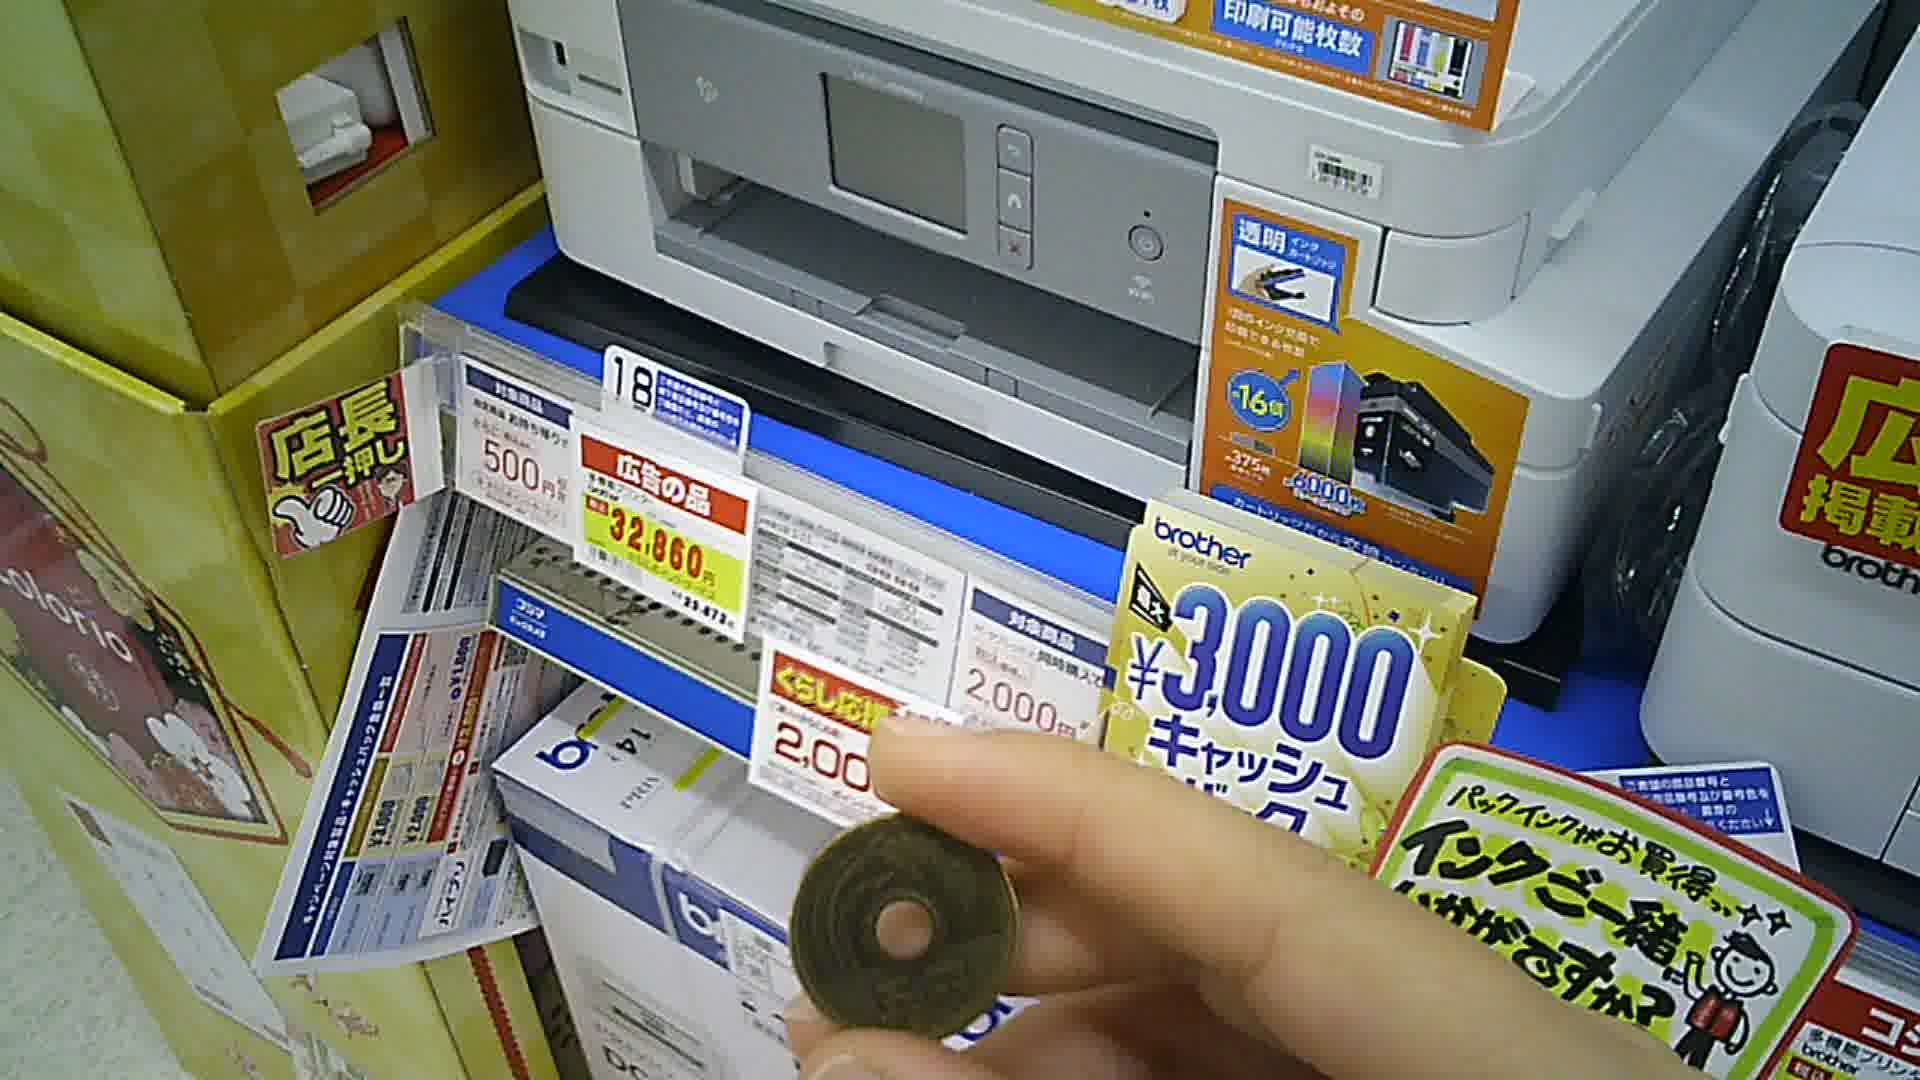5 Yen: (786, 794, 1033, 1048)
